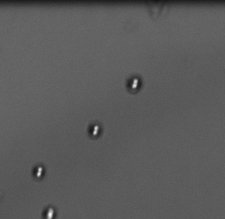Living Cell: (125, 74, 144, 94), (86, 120, 104, 140), (30, 162, 47, 180), (40, 204, 56, 218)
